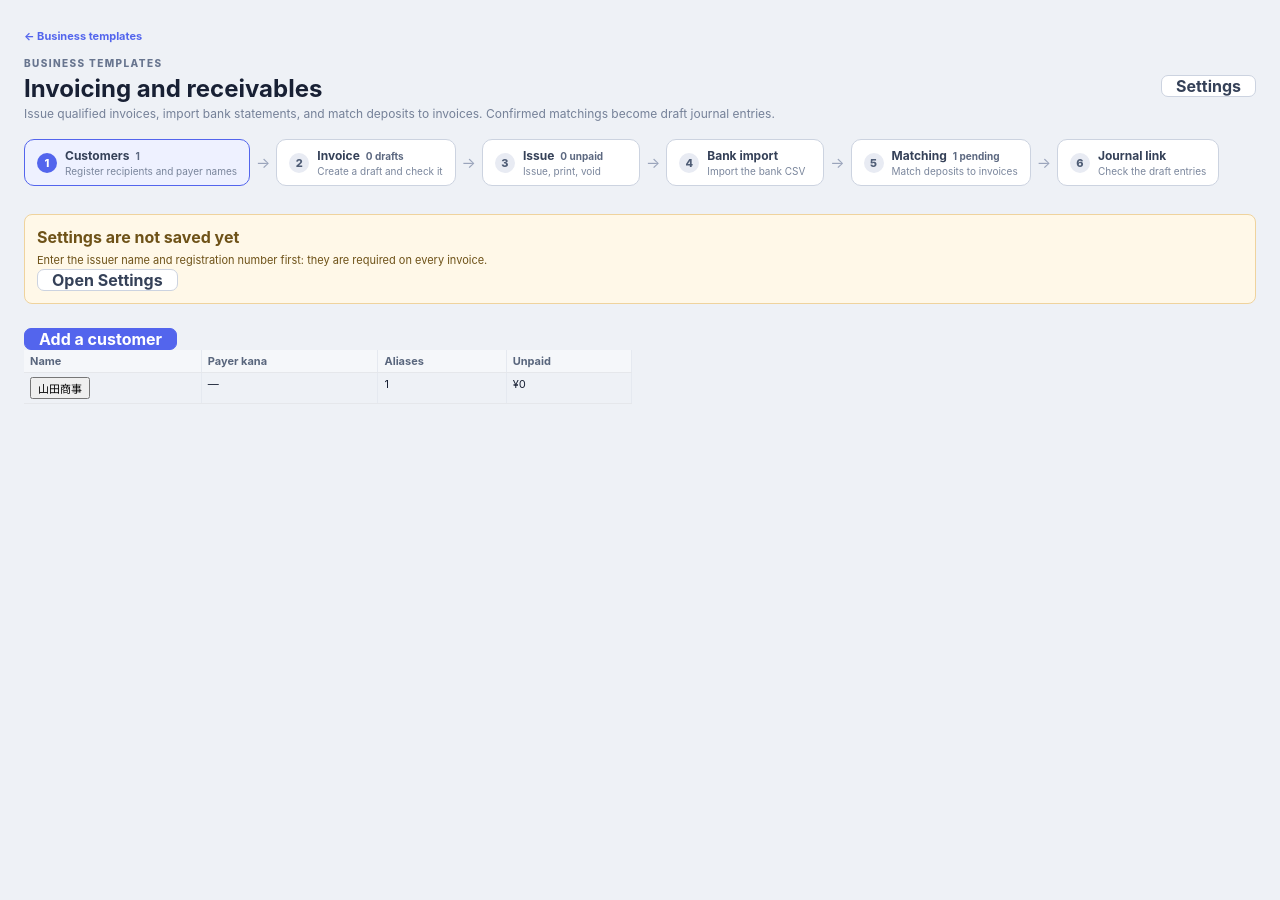
Test case: ReceivablesPage › 正常: 手順は 取引先 → 請求書作成 → 発行 → 明細取込 → 消込 → 仕訳連携。設定未保存なら取引先で開き、設定を案内する
Expected: the text "Settings are not saved yet" is shown, [37,227,239,247]
Step 1. Click the button "Open Settings" → {"x": 107, "y": 280}, box [37,268,178,290]
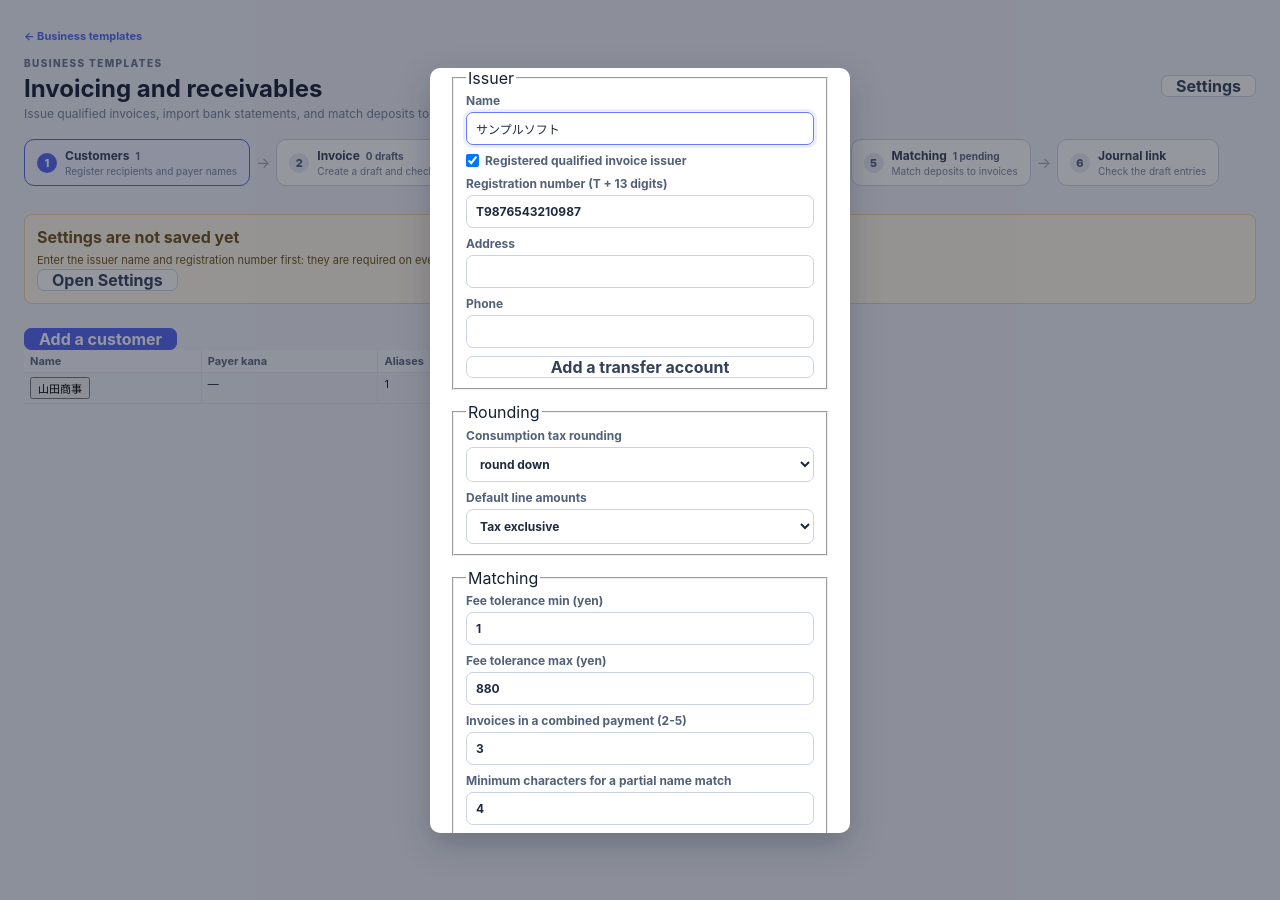
Expected: the dialog "Invoicing settings" is shown, [430,68,850,832]
